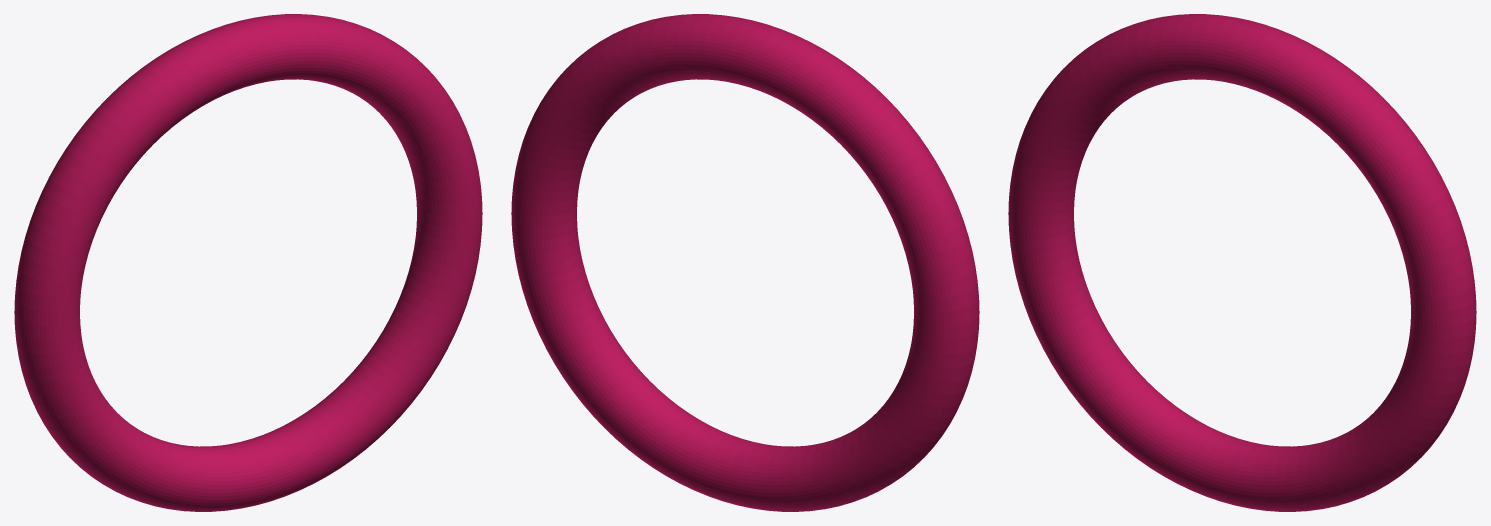
3 renders of one model, left to right at view 1: azimuth 30°, elevation 25°; view 2: azimuth 150°, elevation 25°; view 3: azimuth 330°, elevation 25°, orthographic.
Parts seen in each view (by area): view 1: world; view 2: world; view 3: world.
Part boxes in pixels (bbox=[...]): world: bbox=[14, 14, 482, 511]; world: bbox=[511, 14, 979, 511]; world: bbox=[1008, 14, 1476, 511].
Size of the model in its own units: 33.47 by 33.47 by 4.13.
